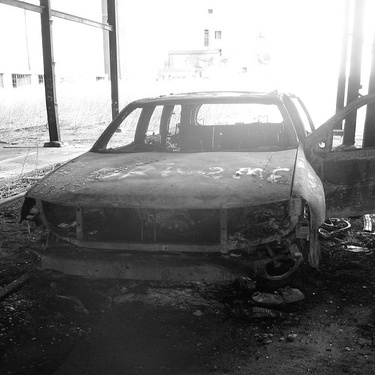car: (16, 75, 374, 288)
